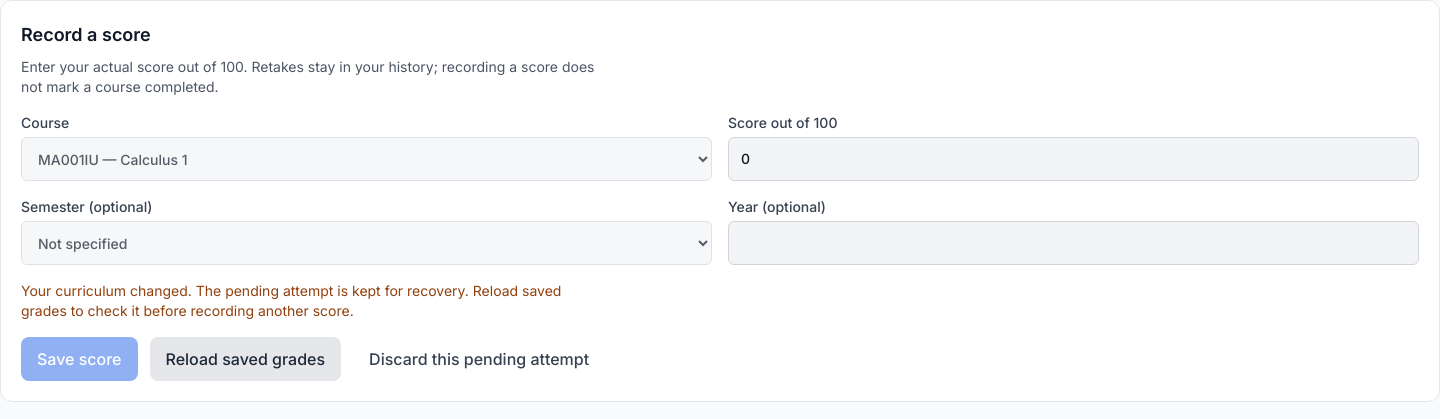
Scenario: numeric grade entry › blocks an absent stale-context attempt and keeps its original key and scope
Check: the text "Your curriculum changed. The pending attempt is kept for recovery" is shown, box [21, 282, 561, 319]
Check: the button "Save score" is disabled, box [21, 337, 138, 381]
Click the button "Reload saved grades".
click(245, 359)  # box [150, 337, 341, 381]
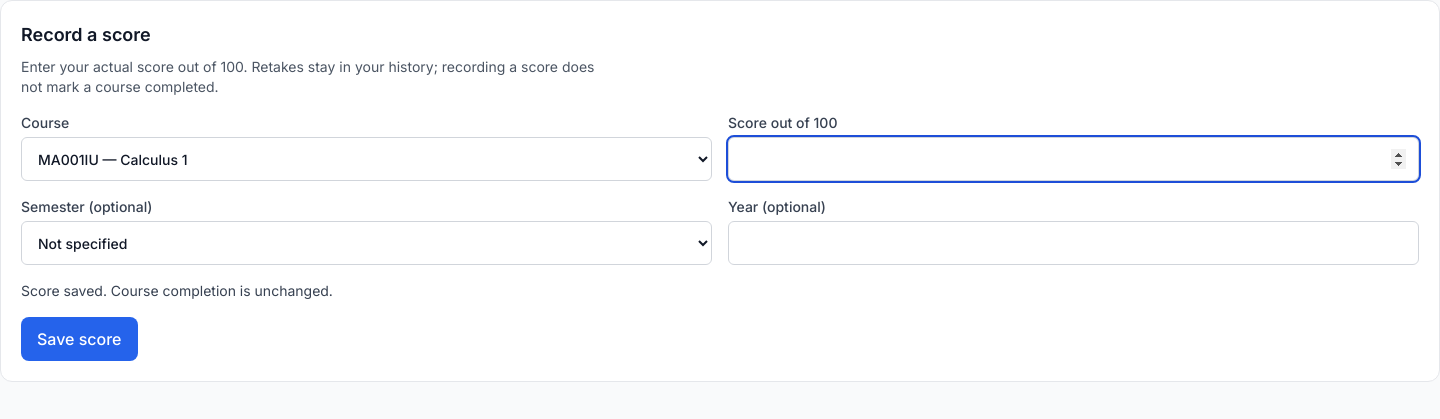
Check: the text "Score saved. Course completion is unchanged." is shown, box [21, 282, 333, 299]
